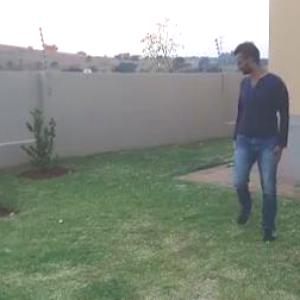follow: (226, 37, 295, 243)
